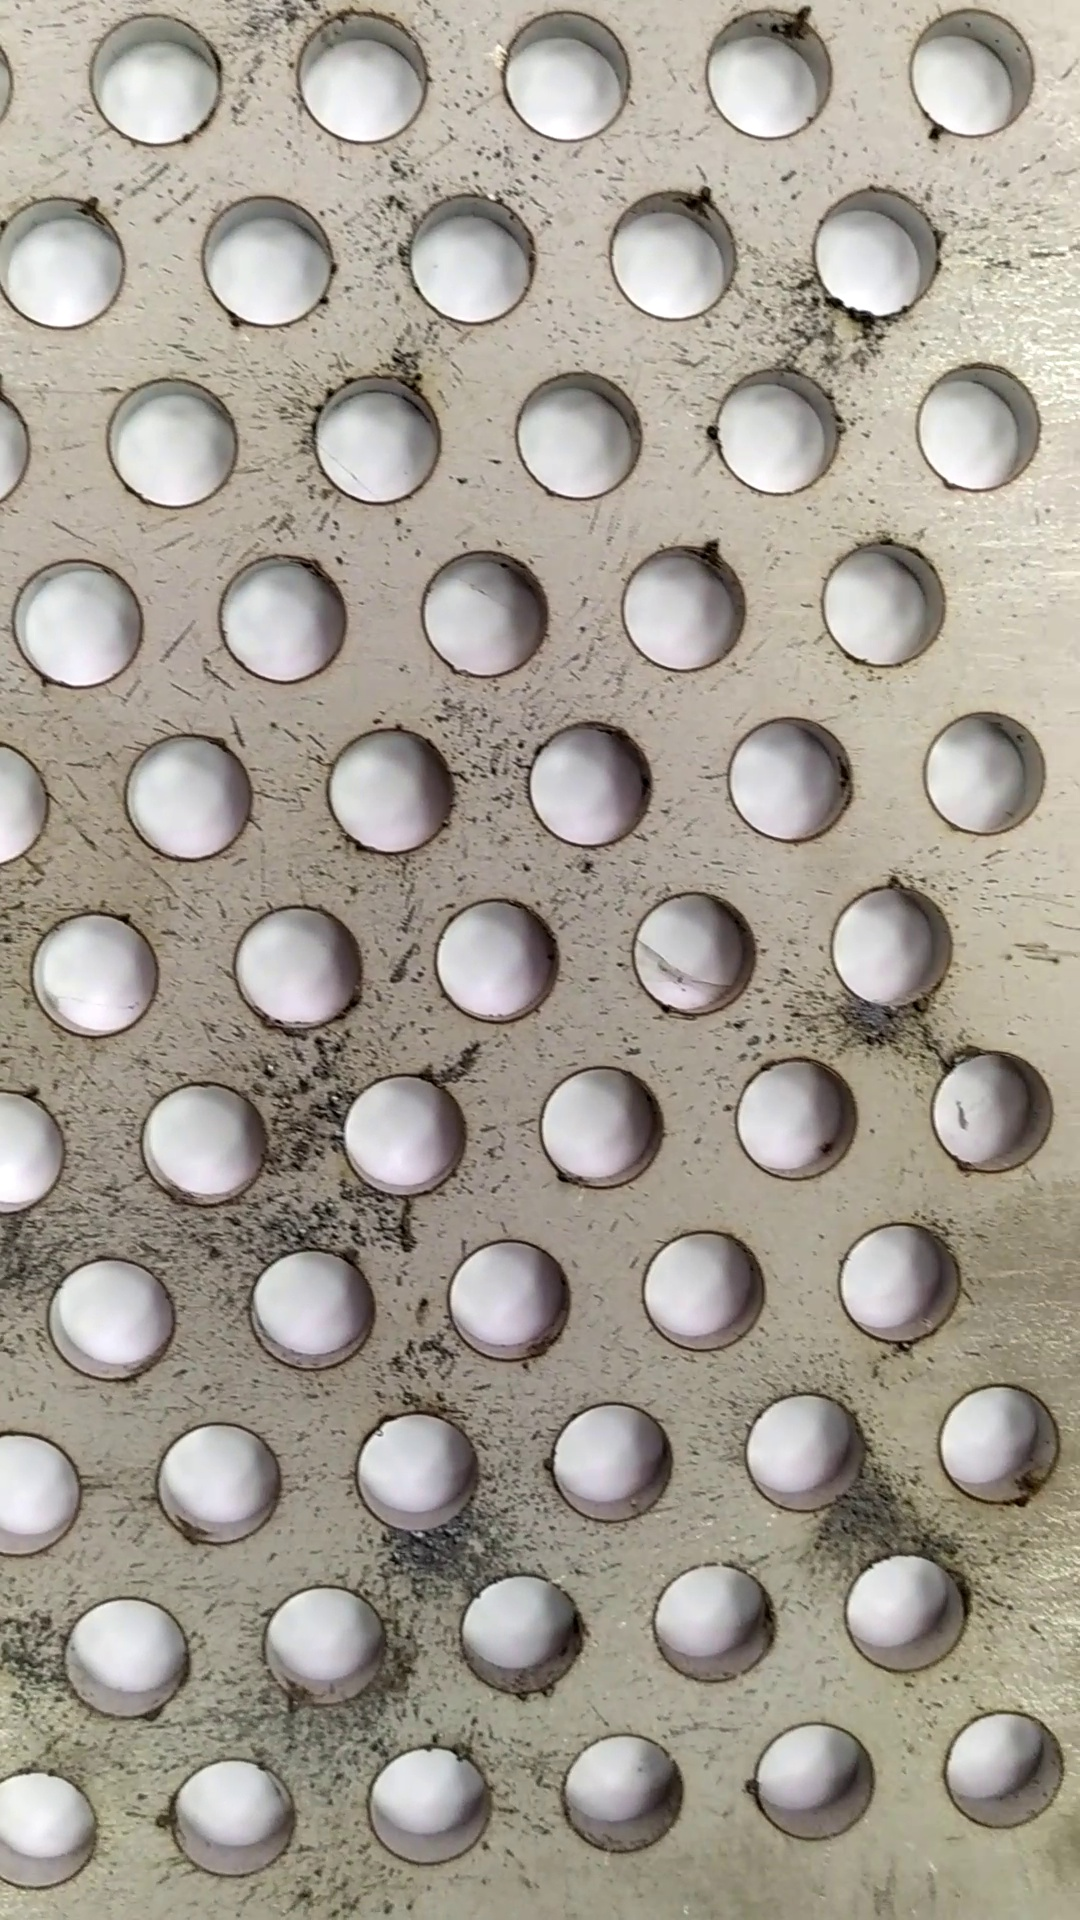Hole: (298, 364, 455, 517), (12, 546, 164, 703), (112, 719, 265, 873), (828, 1540, 986, 1689), (402, 542, 563, 688), (91, 368, 249, 516), (808, 531, 967, 676), (708, 705, 866, 851), (910, 702, 1067, 847), (914, 1040, 1071, 1185), (153, 1750, 310, 1895), (222, 897, 382, 1038), (806, 181, 955, 332), (76, 5, 233, 148), (612, 534, 764, 680), (394, 187, 547, 332), (1, 185, 153, 330), (596, 181, 746, 326), (247, 1577, 404, 1716), (620, 884, 773, 1025), (547, 1724, 700, 1865), (287, 11, 444, 148), (196, 189, 347, 330), (522, 720, 669, 864), (906, 360, 1054, 502), (491, 7, 641, 146), (898, 5, 1044, 148), (700, 363, 847, 505), (512, 368, 659, 509), (353, 1735, 502, 1875), (696, 7, 849, 142), (740, 1709, 885, 1851), (212, 546, 359, 687), (634, 1552, 787, 1687), (41, 1246, 185, 1387), (538, 1056, 683, 1195), (940, 1695, 1075, 1842), (320, 727, 469, 860), (141, 1418, 291, 1549), (545, 1391, 683, 1534), (343, 1407, 489, 1540), (24, 907, 169, 1040), (55, 1596, 202, 1727), (632, 1224, 779, 1354), (334, 1064, 469, 1205), (832, 873, 967, 1015), (728, 1048, 865, 1185), (928, 1377, 1067, 1513), (430, 893, 571, 1026), (738, 1383, 876, 1519), (443, 1234, 587, 1364), (444, 1568, 587, 1697), (241, 1244, 382, 1371), (140, 1081, 269, 1213), (829, 1222, 967, 1344)
